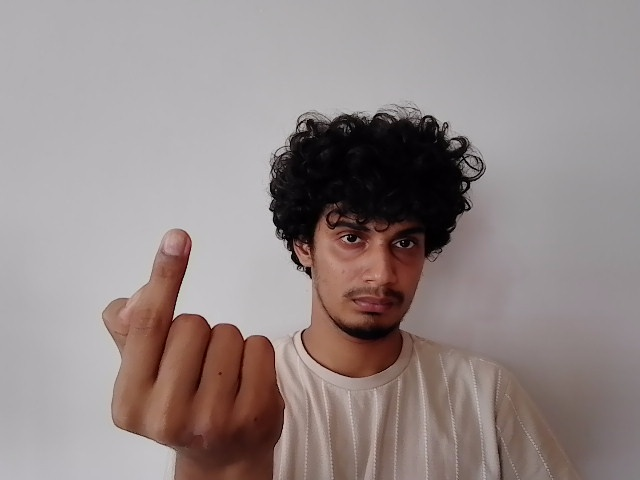just: (100, 226, 291, 450)
